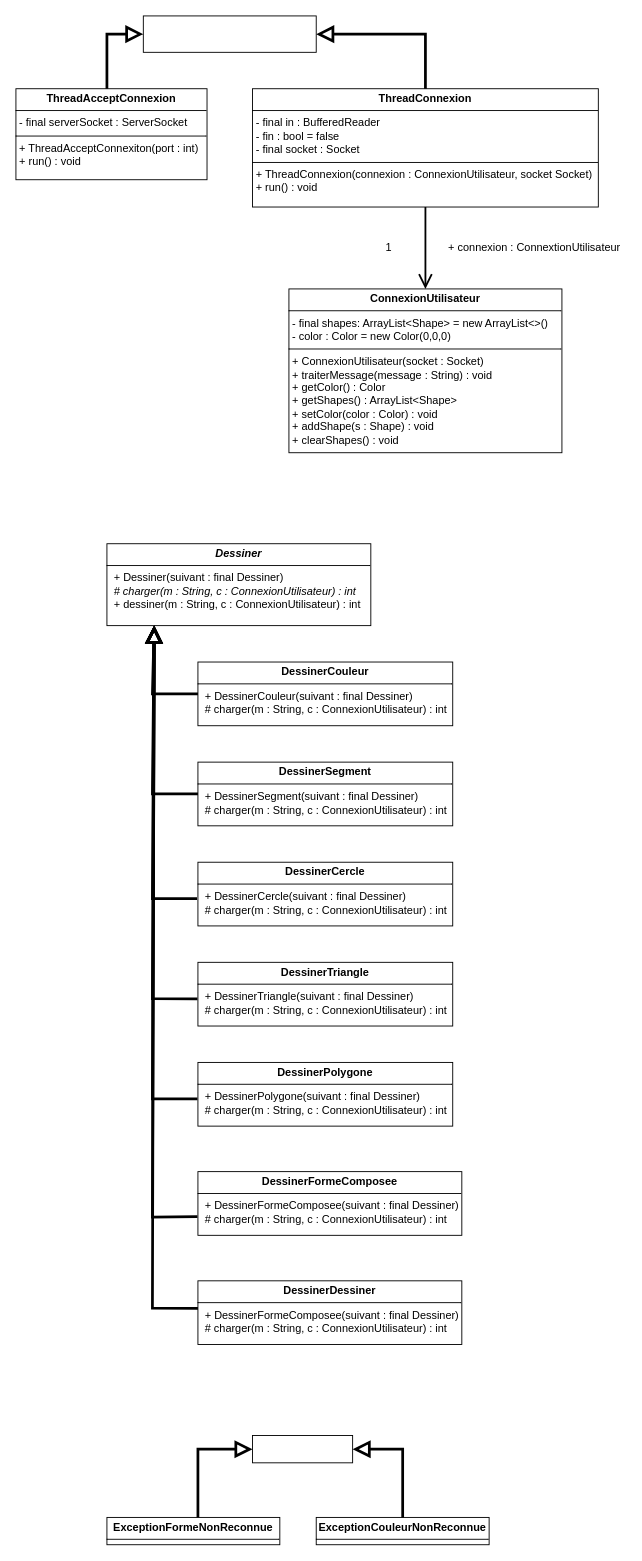
Some shapes in this 642 by 1561 pixel diagram are drawn without their labels. Here are the shapes that lost their labels. From the top down, the centre of each, then its label:
At pixel 229 33: "<<Interface>> Thread".
At pixel 302 1449: "ExceptionDessin".
